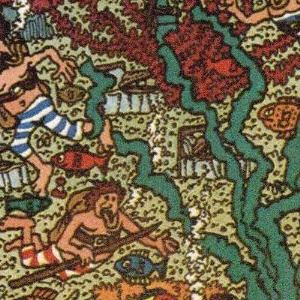Wizard Whitebeard: (141, 79, 233, 221)
